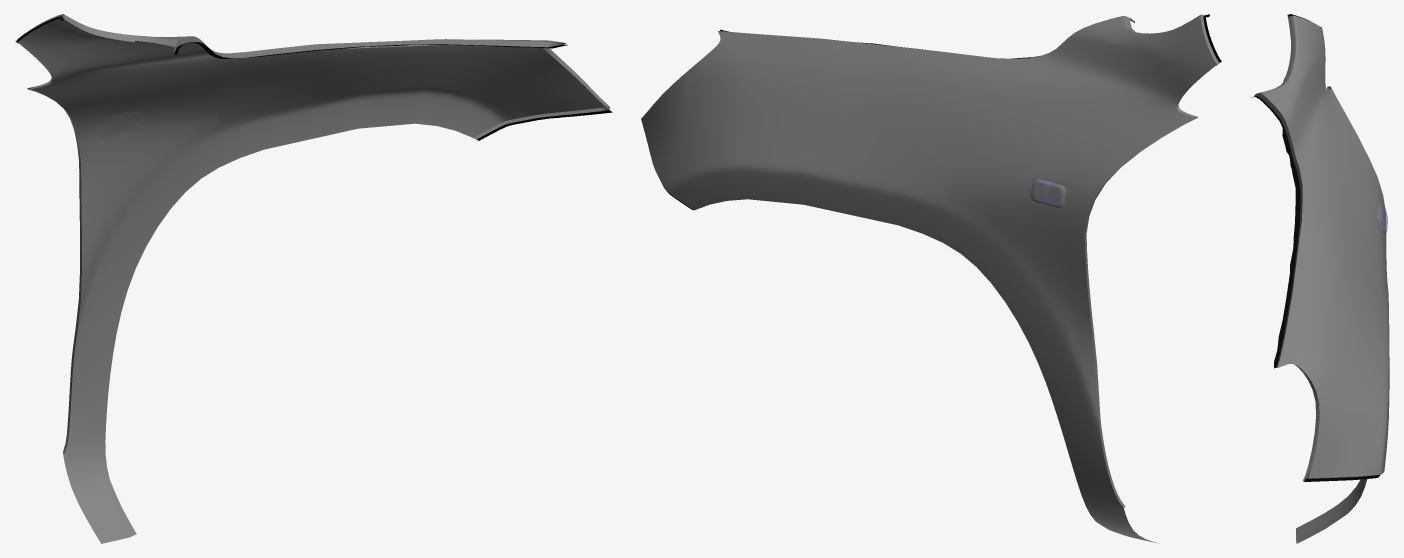
3 views of the same model, side by side, from view 1: azimuth 30°, elevation 25°; view 2: azimuth 150°, elevation 25°; view 3: azimuth 270°, elevation 25° (orthographic). The views are drawn at different scales.
Parts seen in each view (by area): view 1: Y712_121B_L_Y712_121B_L_3_DaS, Y712_121B_L_Y712_121B_L_3_DaS_E, Y712_121B_L_Y712_121B_L_6_D; view 2: Y712_121B_L_Y712_121B_L_3_DaS, Y712_121B_L_Y712_121B_L_3_DaS_E, Y712_121B_L_2_N_Y712_121B_L, Y712_121B_L_Y712_121B_L_4_DTaSI; view 3: Y712_121B_L_Y712_121B_L_3_DaS, Y712_121B_L_Y712_121B_L_6_D, Y712_121B_L_Y712_121B_L_3_DaS_E, Y712_121B_L_Y712_121B_L_4_DTaSI.
Part boxes in pixels (x1=…): Y712_121B_L_Y712_121B_L_3_DaS: x1=18, y1=14, x2=605, y2=543; Y712_121B_L_Y712_121B_L_3_DaS_E: x1=16, y1=14, x2=612, y2=453; Y712_121B_L_Y712_121B_L_6_D: x1=15, y1=16, x2=612, y2=140; Y712_121B_L_Y712_121B_L_3_DaS: x1=641, y1=15, x2=1217, y2=543; Y712_121B_L_Y712_121B_L_3_DaS_E: x1=1084, y1=14, x2=1219, y2=507; Y712_121B_L_2_N_Y712_121B_L: x1=1030, y1=179, x2=1066, y2=208; Y712_121B_L_Y712_121B_L_4_DTaSI: x1=1030, y1=179, x2=1065, y2=207; Y712_121B_L_Y712_121B_L_3_DaS: x1=1257, y1=15, x2=1389, y2=543; Y712_121B_L_Y712_121B_L_6_D: x1=1251, y1=14, x2=1380, y2=481; Y712_121B_L_Y712_121B_L_3_DaS_E: x1=1254, y1=16, x2=1378, y2=481; Y712_121B_L_Y712_121B_L_4_DTaSI: x1=1377, y1=203, x2=1387, y2=233.
Bounding box in the file's own units: 129 × 113 × 28.84.
